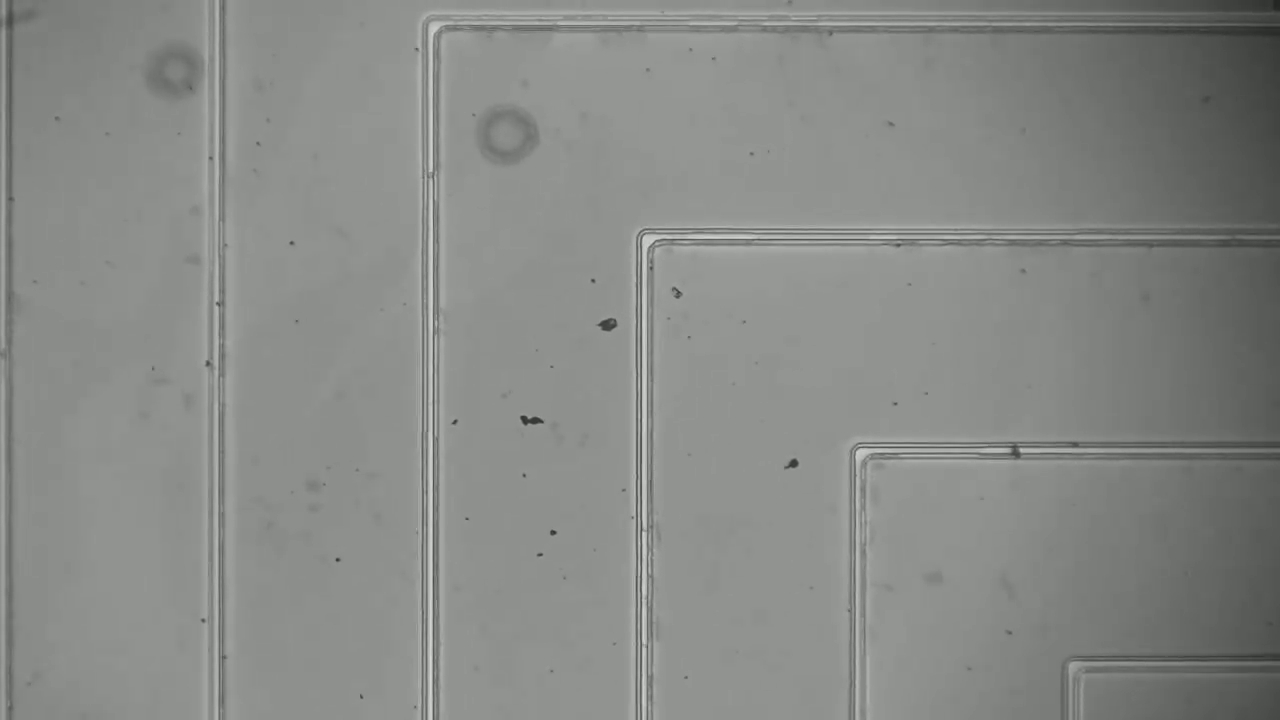stains_enbedded: (999, 436, 1032, 466)
